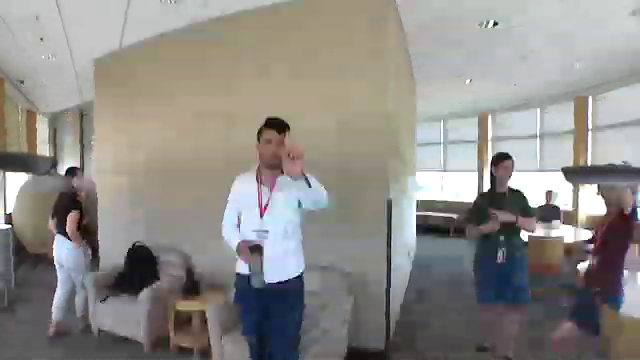up: (277, 127, 305, 177)
